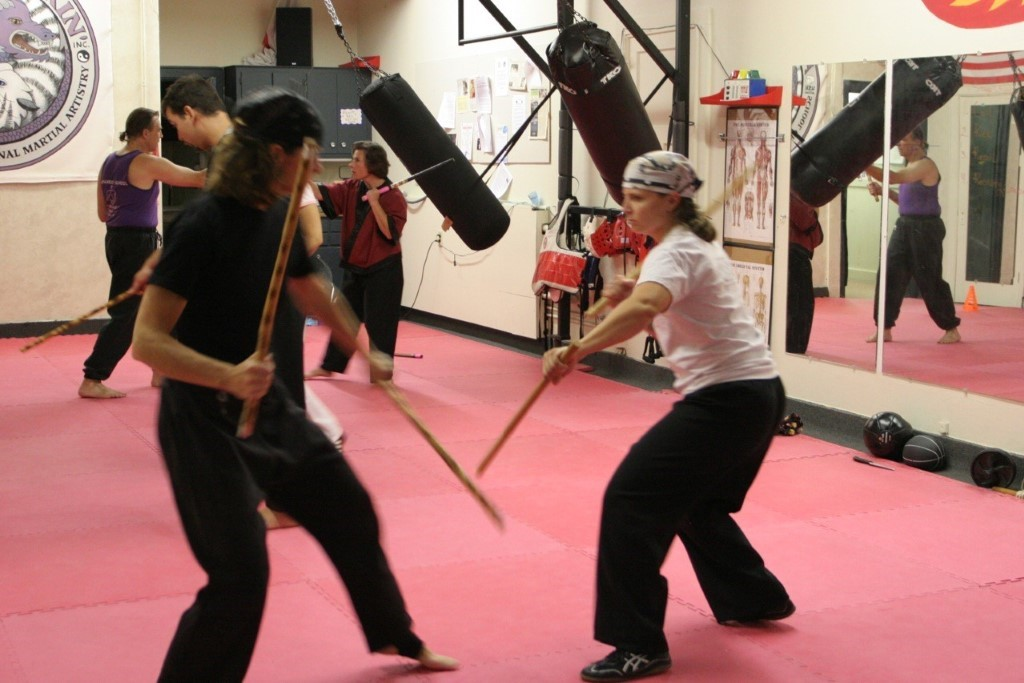baston_e: (235, 153, 316, 429), (598, 171, 746, 308), (379, 386, 498, 521), (482, 351, 570, 471), (24, 287, 135, 353), (367, 160, 450, 199)
baston_v: (233, 422, 258, 444), (297, 131, 318, 153), (492, 514, 508, 531), (584, 305, 600, 319), (569, 337, 585, 350), (470, 465, 484, 479), (359, 194, 369, 202), (17, 344, 26, 352), (449, 155, 456, 163), (873, 196, 880, 204)
